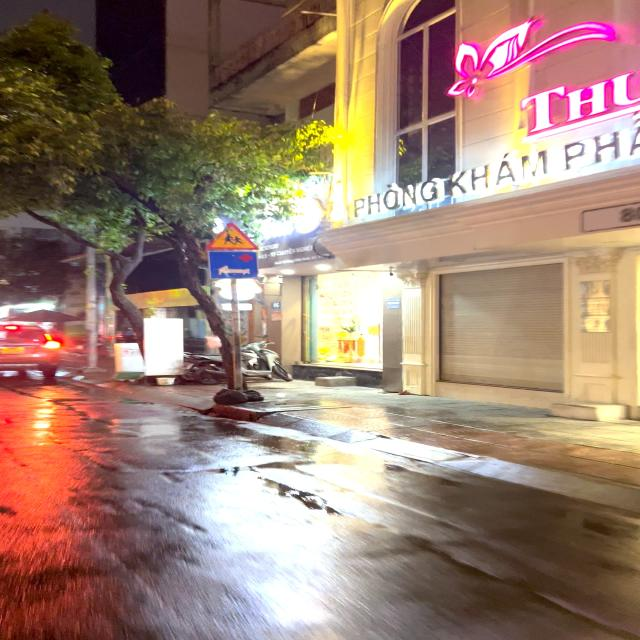bien_chi_dan: (202, 251, 264, 280)
bien_nguy_hiem: (204, 222, 262, 251)
